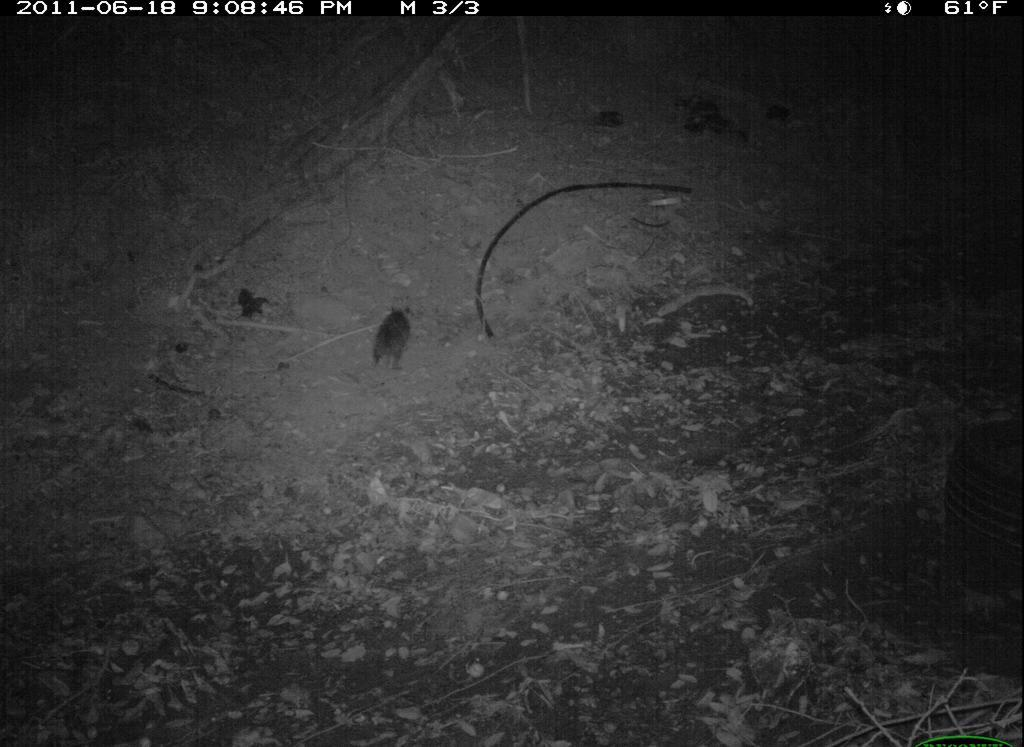opossum: (369, 303, 420, 376)
